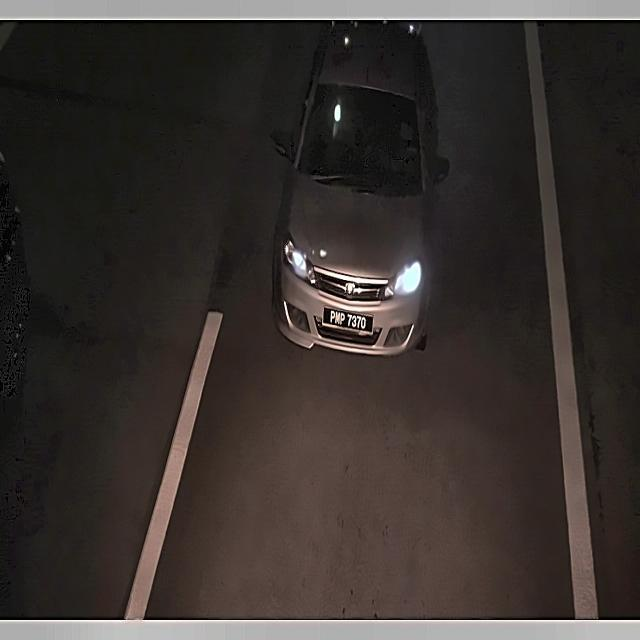car: (316, 300, 380, 341)
